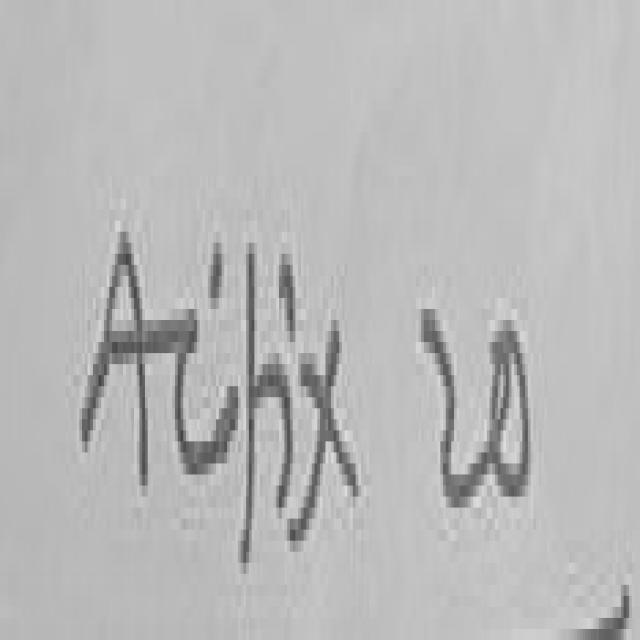0: (492, 320, 531, 497)
2: (424, 309, 487, 508)
A: (82, 232, 148, 480)
c: (175, 305, 199, 485)
f: (241, 243, 277, 563), (279, 254, 295, 342)
i: (202, 386, 238, 482), (279, 367, 293, 502), (211, 243, 224, 309)
x: (290, 320, 358, 541)
